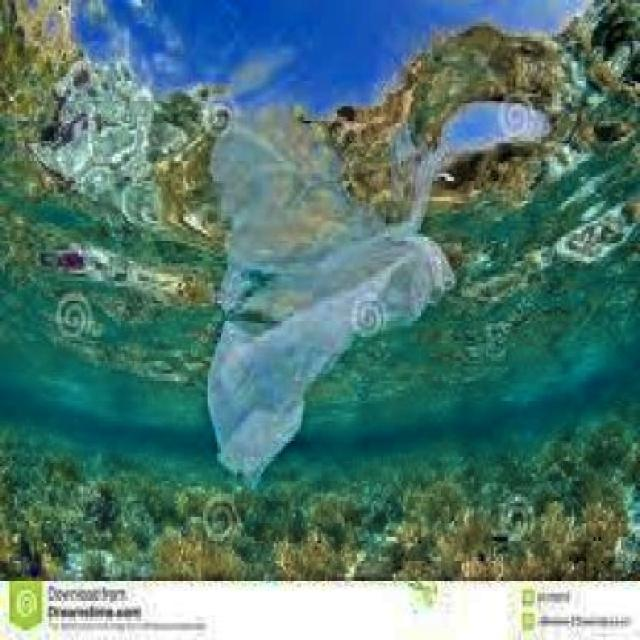pbag: (205, 236, 457, 493)
